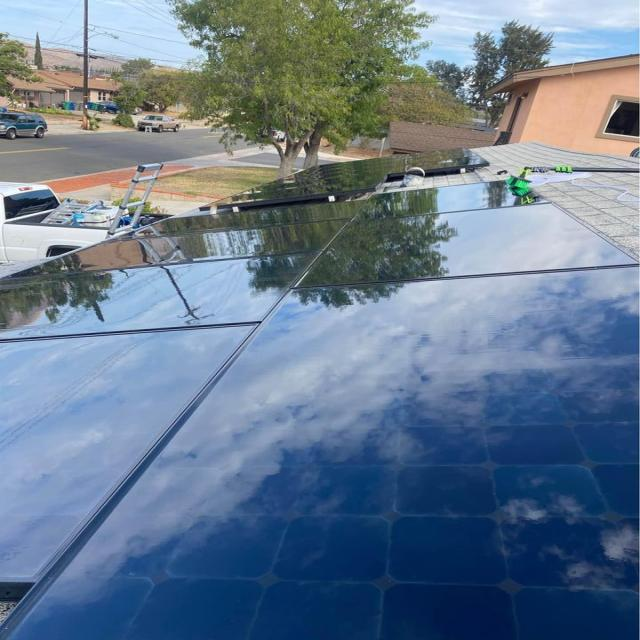clean-solar-panel: (3, 181, 638, 640)
